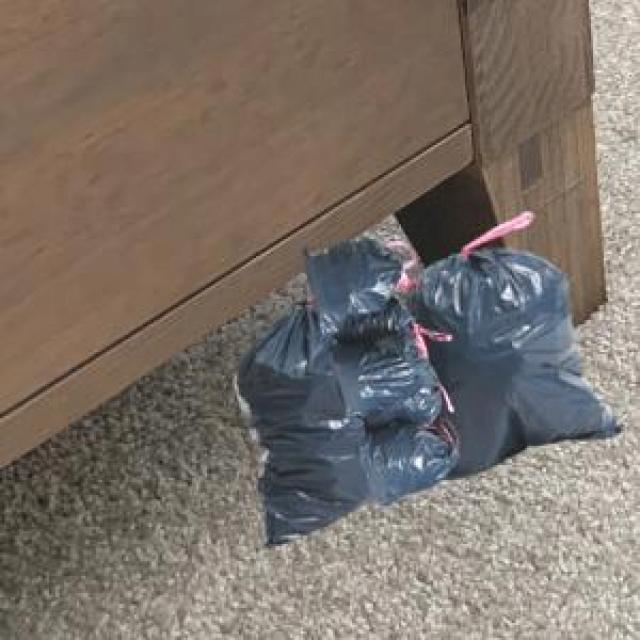Trashbag: (436, 252, 601, 474), (236, 317, 348, 545), (310, 235, 412, 332), (337, 342, 443, 434), (364, 422, 457, 506)
